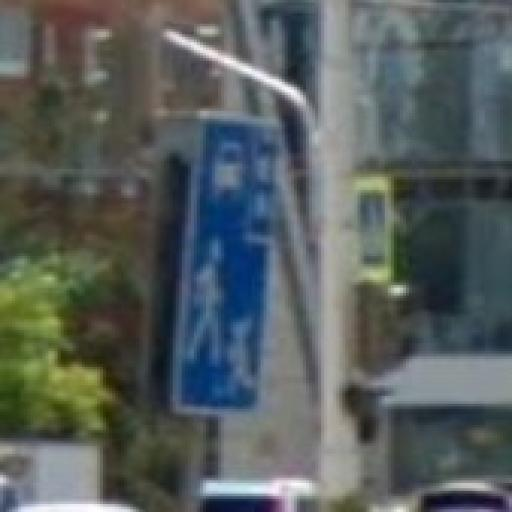traffic_sign: (168, 110, 289, 416)
